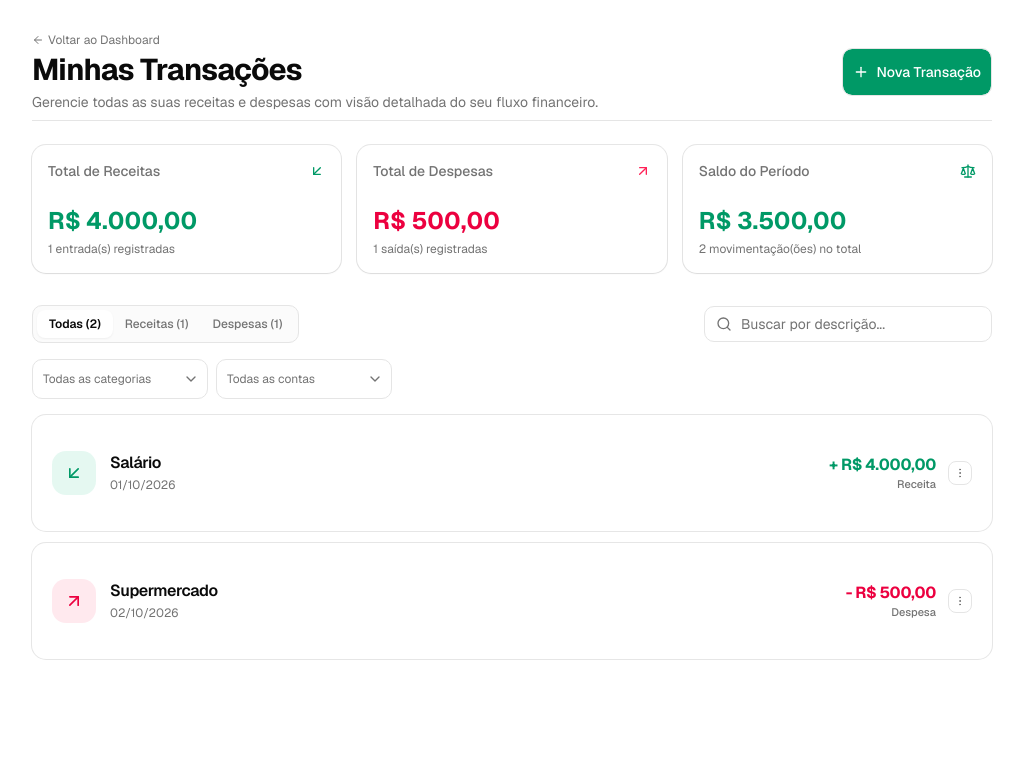
Test: TransactionsView Component › deve filtrar transações por tipo
This screenshot has width=1024, height=768.
Expected: the heading "Salário" is shown, [110, 452, 161, 473]
# Filtra apenas Receitas
Click the button with test id "filter-income-button" at coordinates (157, 324), box [113, 310, 200, 338]
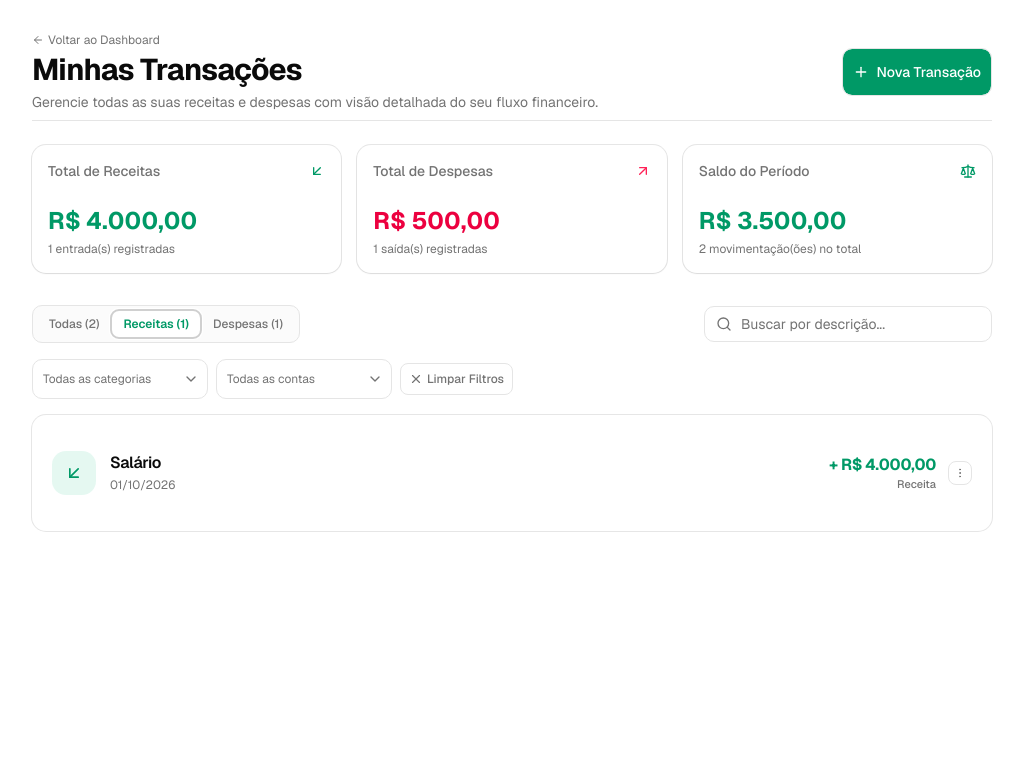
Expected: the heading "Salário" is shown, [110, 452, 161, 473]
Result: the heading "Supermercado" is gone
# Filtra apenas Despesas
Click the button with test id "filter-expense-button" at coordinates (248, 324), box [201, 310, 295, 338]
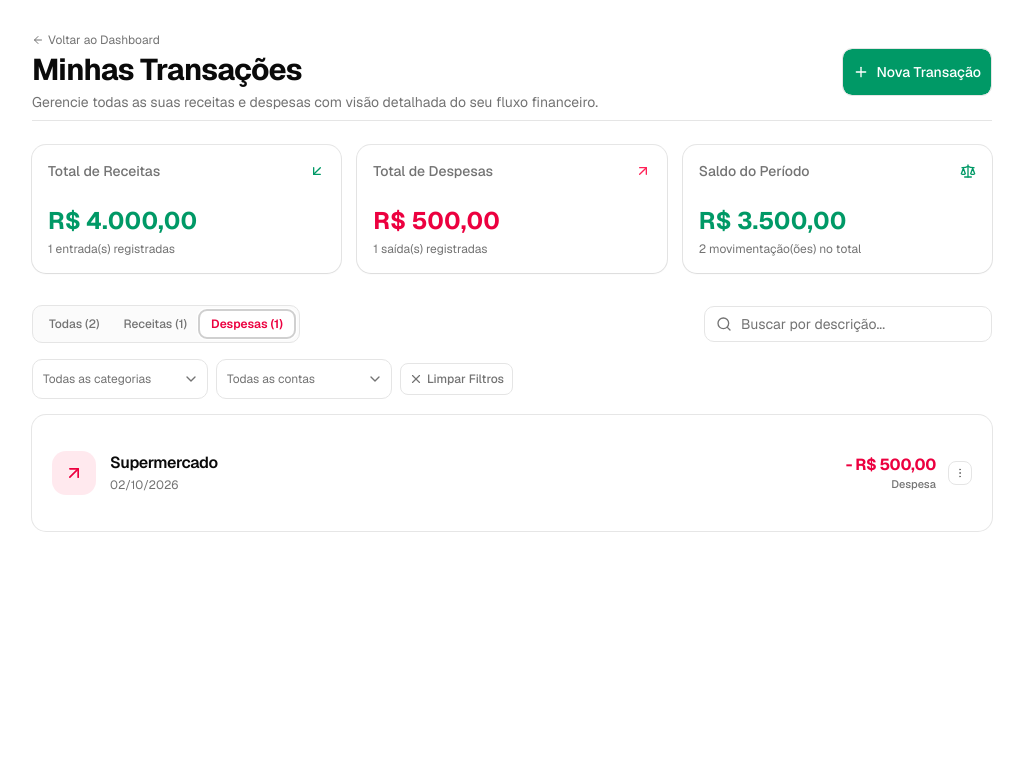
Result: the heading "Salário" is gone
Result: the heading "Supermercado" is shown at [110, 453, 218, 473]
